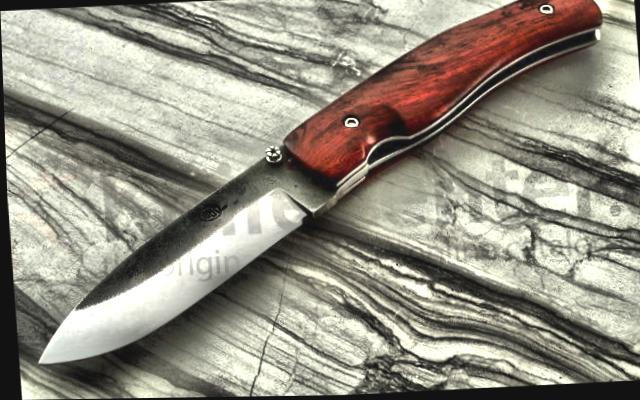knife: (9, 127, 372, 376)
